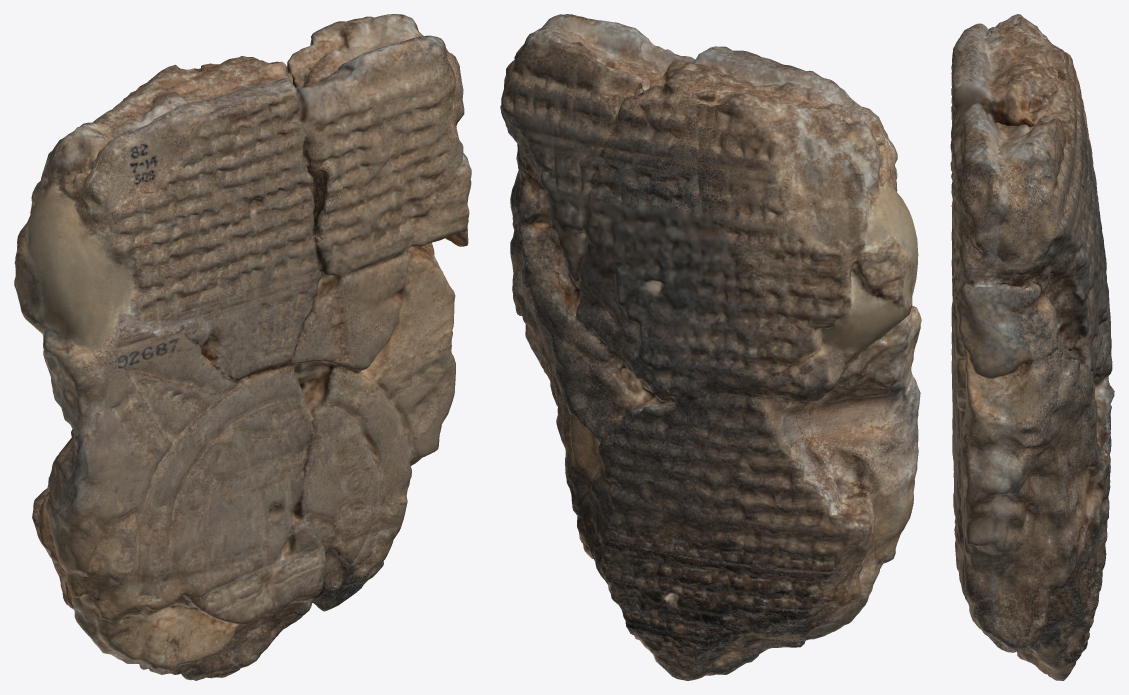
The model's file is TablaMapaUned_01.obj.
3 views of the same model, side by side, from view 1: azimuth 30°, elevation 25°; view 2: azimuth 150°, elevation 25°; view 3: azimuth 270°, elevation 25° (orthographic). The views are drawn at different scales.
Size of the model in its own units: 85.15 by 121 by 29.32.
1 material, 1 textured.
